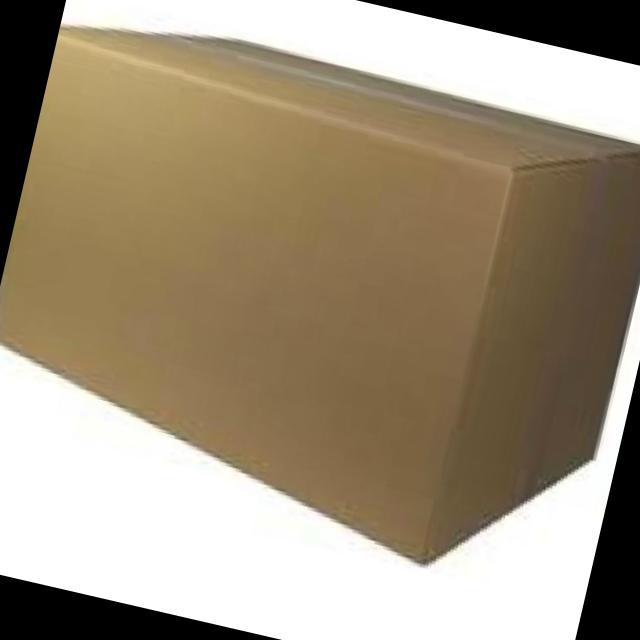cardboard paper: (0, 25, 640, 560)
